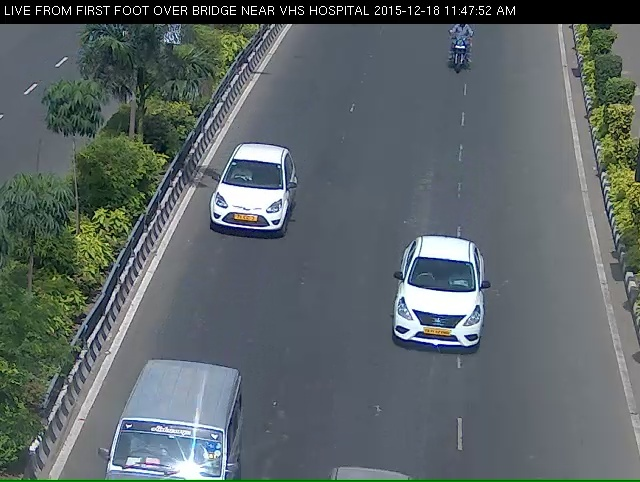Car: (103, 376, 237, 482), (384, 256, 492, 380), (208, 150, 296, 254)
Person: (446, 24, 472, 81)
